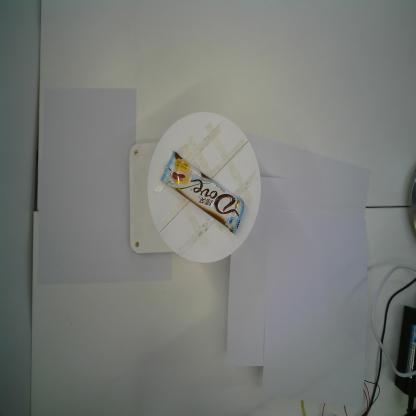Chocolate: (159, 149, 245, 235)
